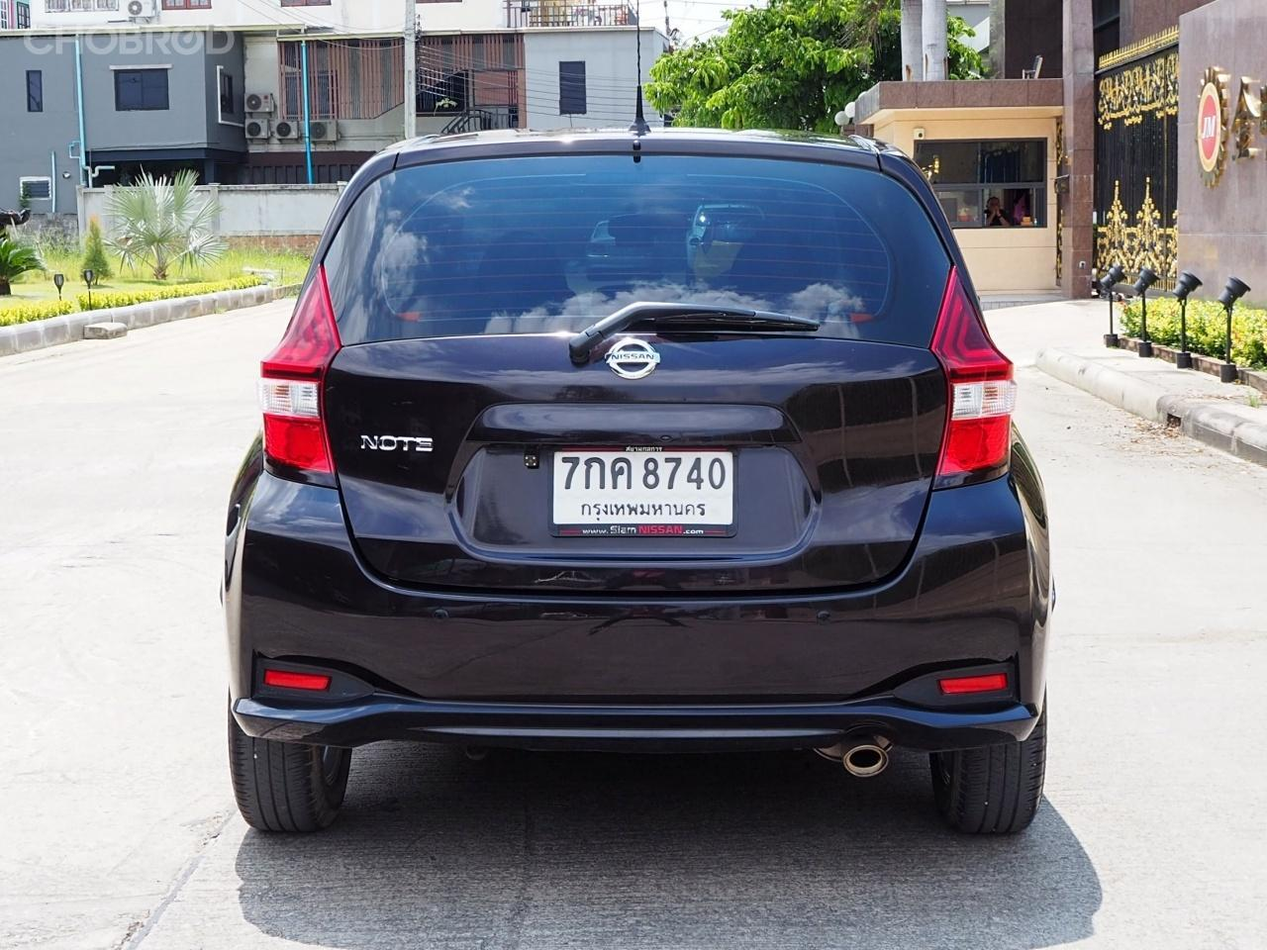license-plate: (552, 447, 742, 543)
